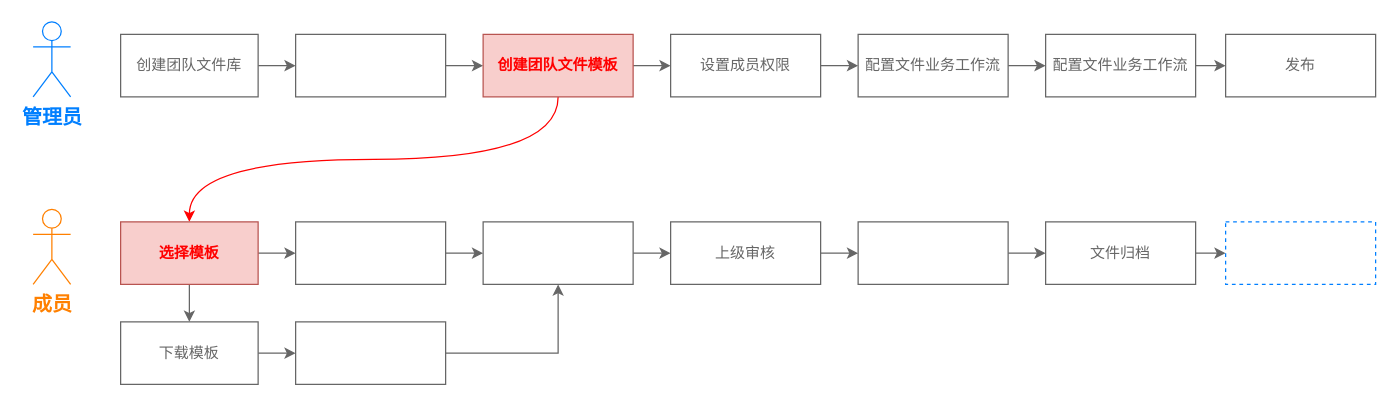
Image size: 1398x406. Some labels were removed from this diagram. The box of each missing label's shape, as (x1, y1, x2, y2) in pixels:
分享查看: (1224, 221, 1376, 284)
审核通过: (857, 221, 1008, 284)
文件上报: (482, 221, 633, 284)
添加团队人员: (294, 33, 446, 97)
编辑后导入: (294, 321, 446, 384)
编辑文件: (294, 221, 446, 284)
